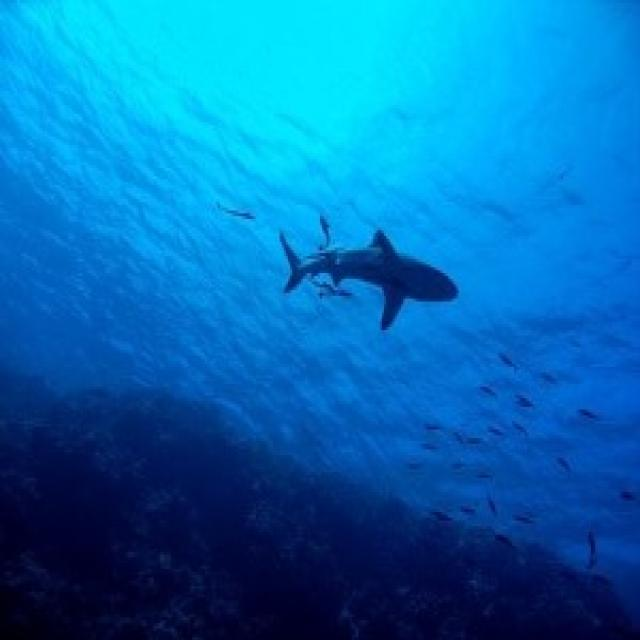Shark: (272, 214, 476, 350), (206, 186, 260, 232)
